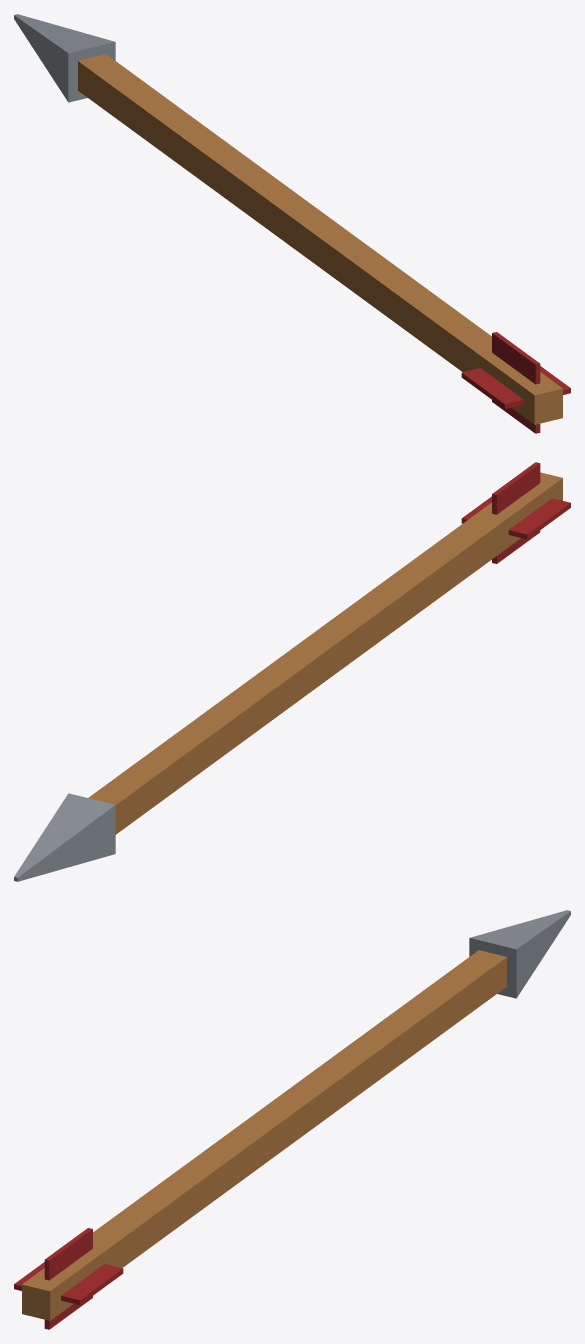
Rendered from placeholder_arrow_bolt.glb.
3 views of the same model, one above another, from view 1: azimuth 30°, elevation 25°; view 2: azimuth 150°, elevation 25°; view 3: azimuth 330°, elevation 25° (orthographic).
Visible parts, largest first — view 1: bolt_shaft, bolt_tip, bolt_fin_v, bolt_fin_h; view 2: bolt_shaft, bolt_tip, bolt_fin_v, bolt_fin_h; view 3: bolt_shaft, bolt_tip, bolt_fin_v, bolt_fin_h.
Part boxes in pixels (box(x1,y1,x2,y2)): bolt_shaft: box(78, 54, 562, 424); bolt_tip: box(14, 14, 115, 102); bolt_fin_v: box(492, 332, 540, 433); bolt_fin_h: box(461, 366, 570, 409); bolt_shaft: box(88, 472, 562, 834); bolt_tip: box(14, 793, 115, 881); bolt_fin_v: box(492, 462, 540, 563); bolt_fin_h: box(461, 496, 570, 539); bolt_shaft: box(22, 950, 506, 1320); bolt_tip: box(469, 910, 570, 998); bolt_fin_v: box(44, 1228, 92, 1329); bolt_fin_h: box(14, 1262, 123, 1305).
Bounding box in the file's own units: 0.07 × 0.07 × 0.98.
Materials: 1 (1 with a texture image).
